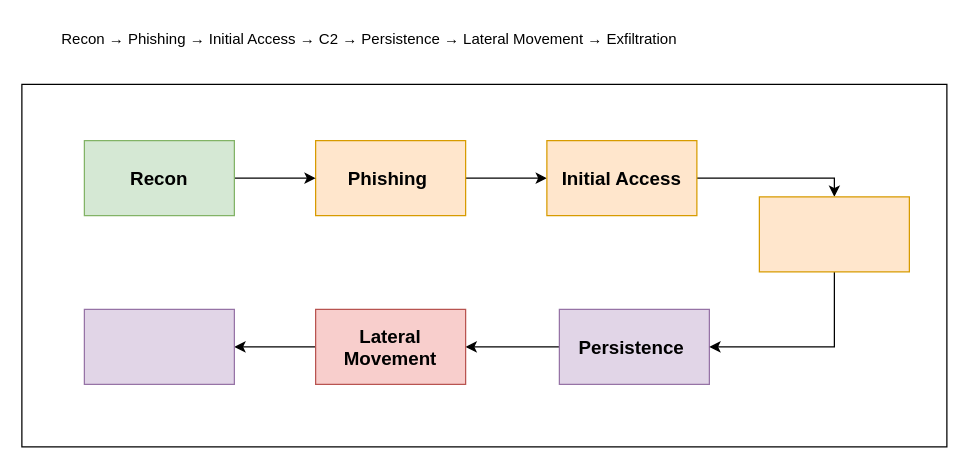
Image size: 969x469. Some labels were removed from this diagram. Each missing label, with the box of its shape:
C2: (758, 196, 909, 272)
Exfiltration: (83, 308, 234, 384)
